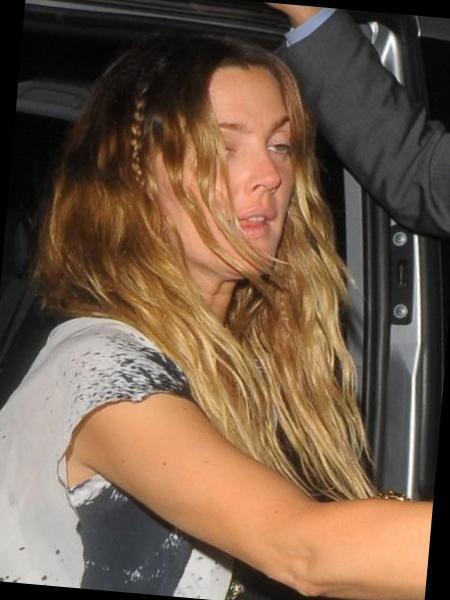Drunk: (207, 72, 298, 274)
